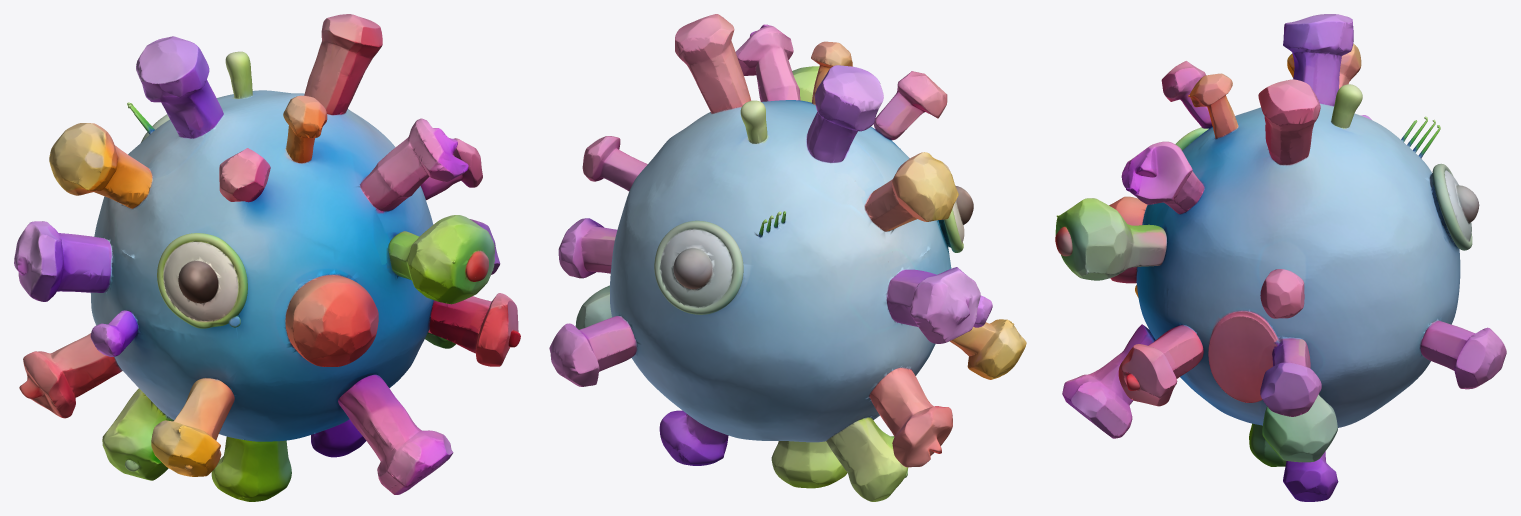
File: germ.glb
3 views of the same model, side by side, from view 1: azimuth 30°, elevation 25°; view 2: azimuth 150°, elevation 25°; view 3: azimuth 270°, elevation 25° (orthographic). The views are drawn at different scales.
Parts seen in each view (by area): view 1: tripo_node_16227fd7-79c4-4c82-abc5-80c8b79d79bd; view 2: tripo_node_16227fd7-79c4-4c82-abc5-80c8b79d79bd; view 3: tripo_node_16227fd7-79c4-4c82-abc5-80c8b79d79bd.
Boxes of the visible parts, x1,y1,x2,y2 form: tripo_node_16227fd7-79c4-4c82-abc5-80c8b79d79bd: [14, 14, 520, 501]; tripo_node_16227fd7-79c4-4c82-abc5-80c8b79d79bd: [549, 14, 1026, 501]; tripo_node_16227fd7-79c4-4c82-abc5-80c8b79d79bd: [1055, 14, 1506, 501].
Bounding box in the file's own units: 0.9798 × 0.9606 × 0.9269.
Materials: 1 (1 with a texture image).
